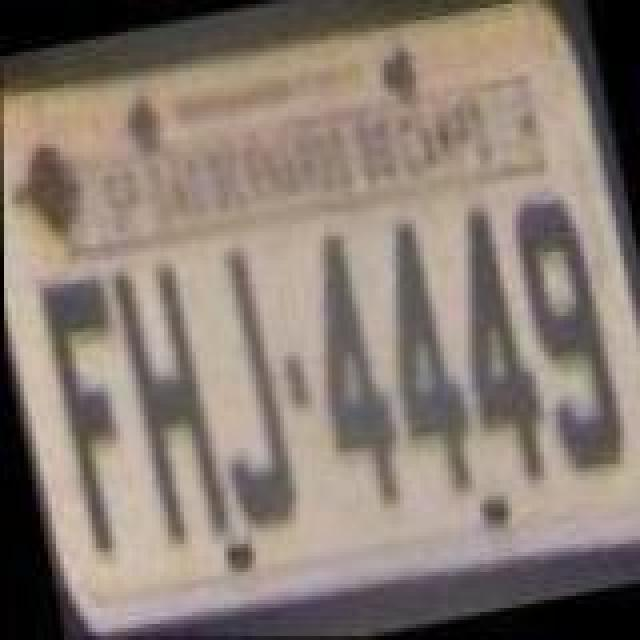4: (432, 202, 560, 498), (286, 226, 410, 522), (360, 216, 480, 508)
9: (500, 186, 628, 478)
F: (36, 270, 156, 562)
H: (108, 256, 236, 552)
J: (182, 242, 306, 538)
